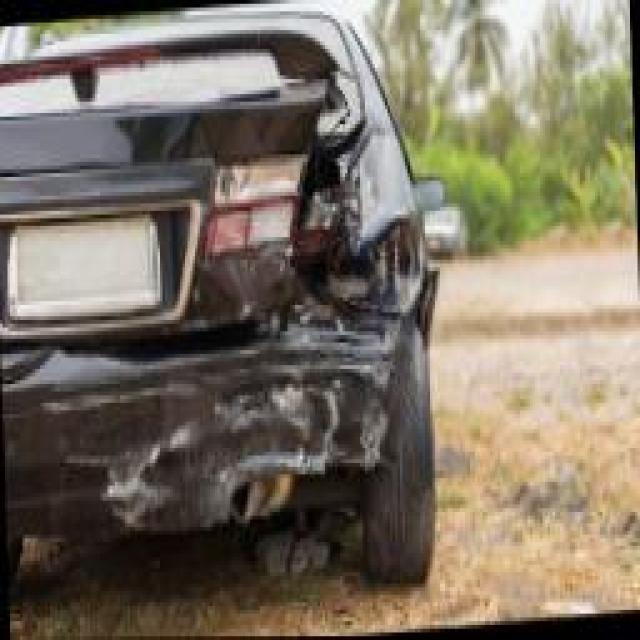Bumper: (38, 301, 405, 545)
Fender: (342, 109, 430, 317)
Light: (212, 154, 342, 261)
